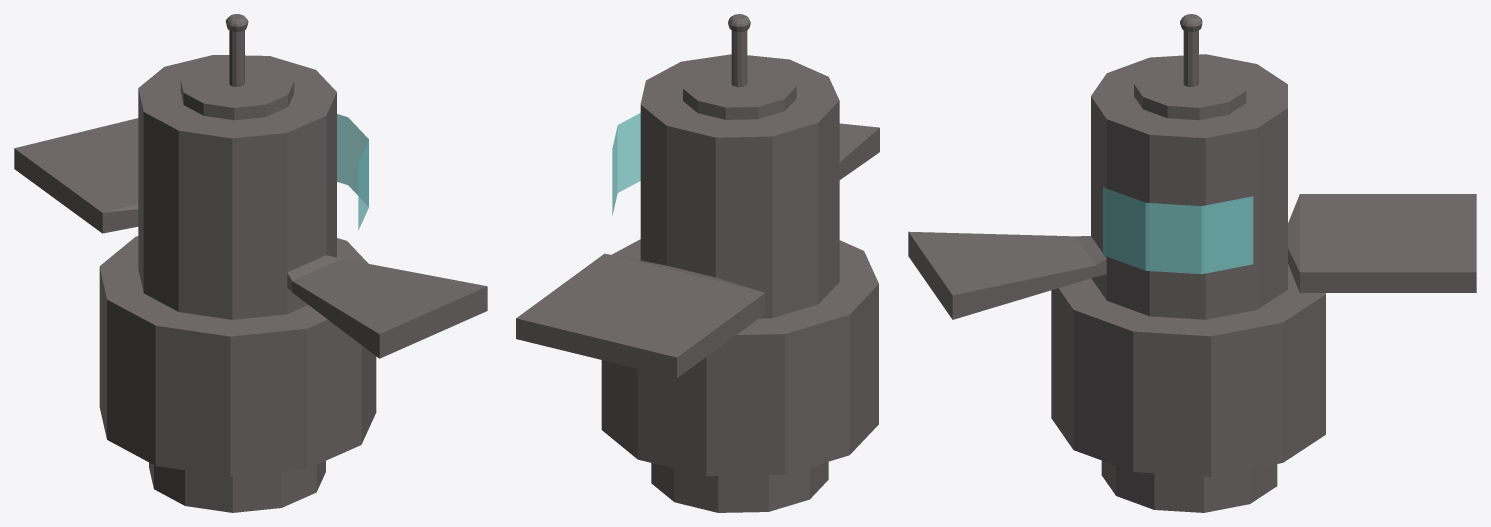
The model's file is satellite.fbx.
3 renders of one model, left to right at view 1: azimuth 30°, elevation 25°; view 2: azimuth 150°, elevation 25°; view 3: azimuth 270°, elevation 25°, orthographic.
Visible parts, largest first — view 1: Cylinder, Cylinder_001; view 2: Cylinder, Cylinder_001; view 3: Cylinder, Cylinder_001.
Boxes of the visible parts, x1,y1,x2,y2 form: Cylinder: [14, 14, 487, 512]; Cylinder_001: [337, 114, 368, 230]; Cylinder: [516, 14, 879, 512]; Cylinder_001: [612, 113, 640, 215]; Cylinder: [908, 14, 1476, 512]; Cylinder_001: [1103, 187, 1253, 274].
Size of the model in its own units: 1.12 by 1.95 by 2.19.
